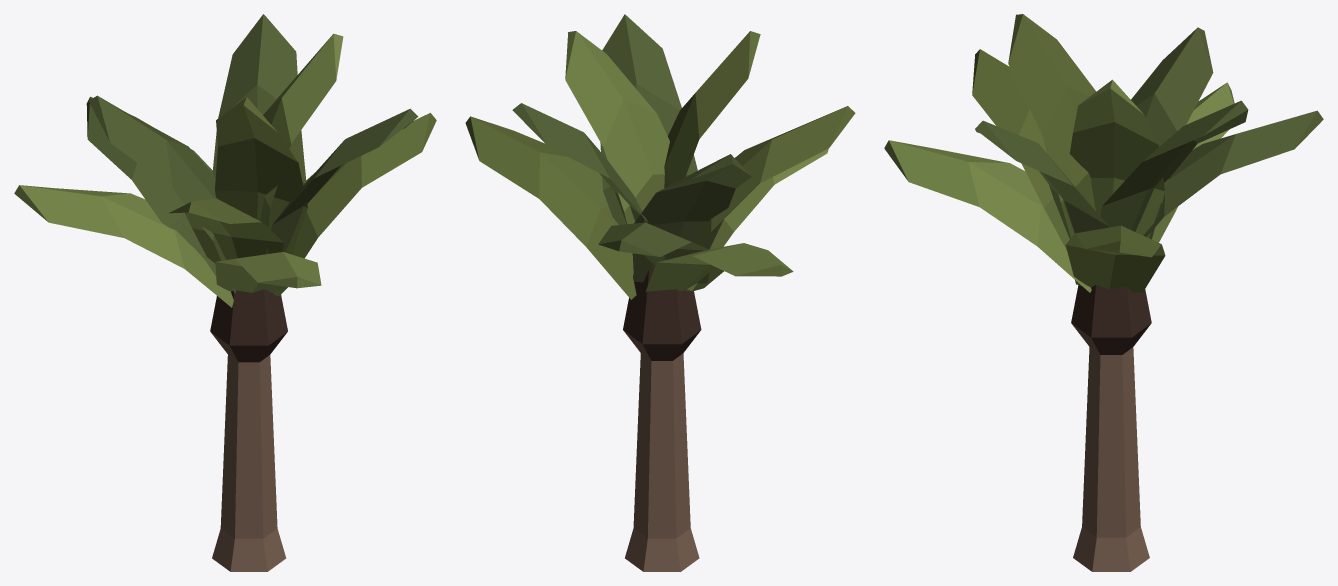
Rendered from Tree Type7 03.glb.
3 views of the same model, side by side, from view 1: azimuth 30°, elevation 25°; view 2: azimuth 150°, elevation 25°; view 3: azimuth 270°, elevation 25° (orthographic). The views are drawn at different scales.
Visible parts, largest first — view 1: Tree_Type7_03_mesh; view 2: Tree_Type7_03_mesh; view 3: Tree_Type7_03_mesh.
Part boxes in pixels (<box>): Tree_Type7_03_mesh: <box>14,14,436,571</box>; Tree_Type7_03_mesh: <box>465,14,855,571</box>; Tree_Type7_03_mesh: <box>884,14,1323,571</box>.
Bounding box in the file's own units: 3.13 × 4.09 × 3.12.
Materials: 1 (1 with a texture image).
